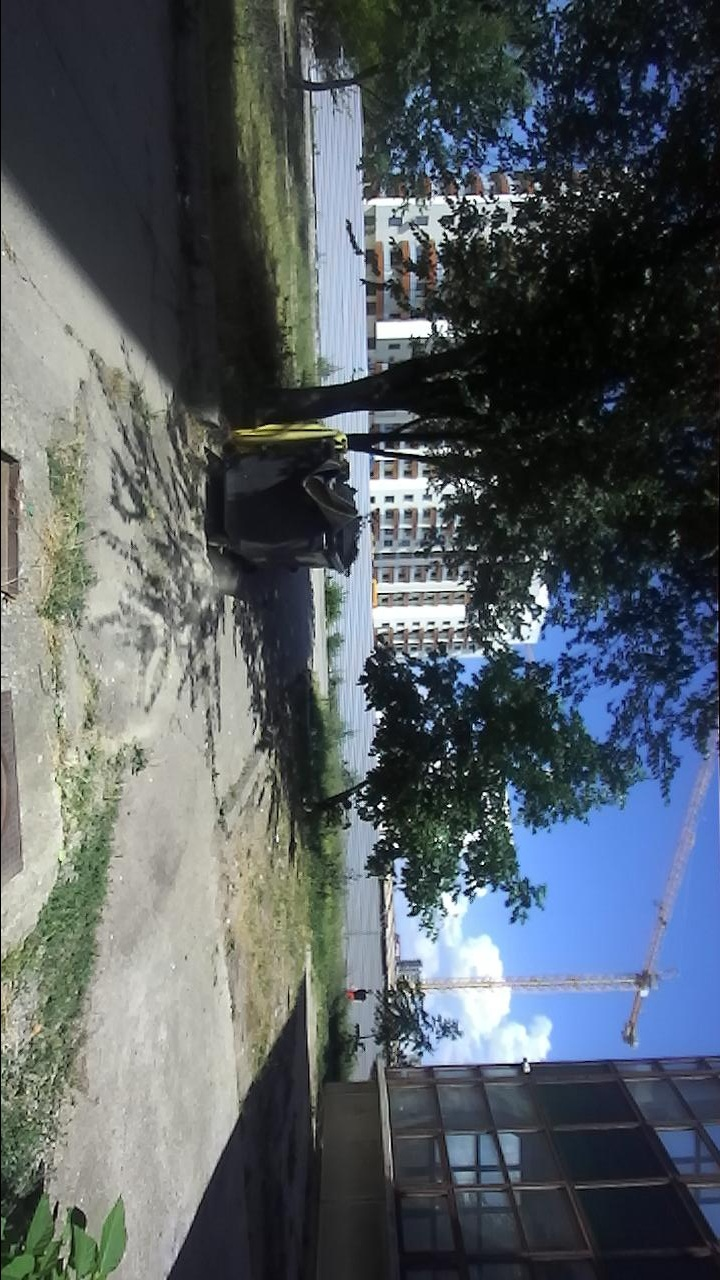drain: (0, 444, 23, 603)
